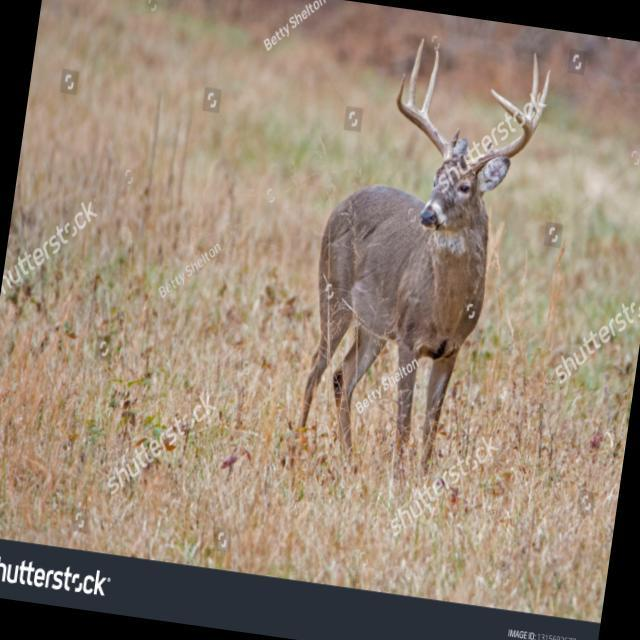L-F: (468, 89, 533, 176)
R-G1: (450, 127, 460, 148)
R-G2: (420, 50, 439, 120)
R-G3: (407, 37, 424, 107)
